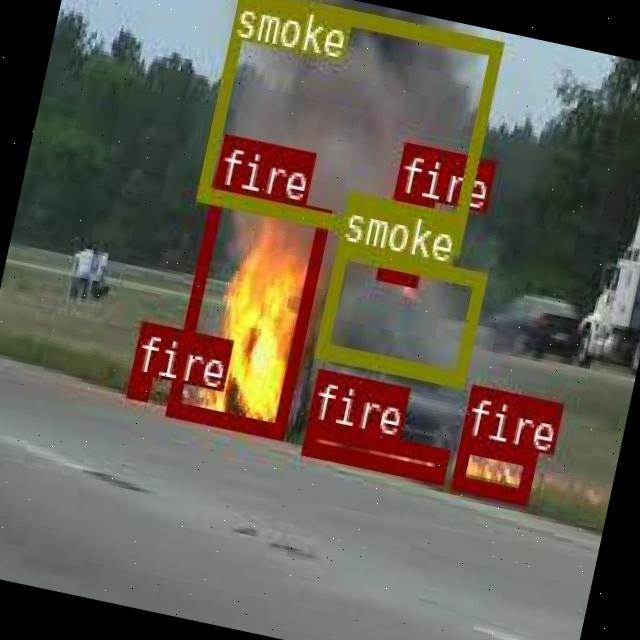fire: (166, 182, 330, 435), (300, 416, 448, 478), (448, 432, 535, 502), (374, 190, 431, 282), (126, 369, 150, 396)
smoke: (194, 0, 501, 251), (314, 240, 484, 382)
